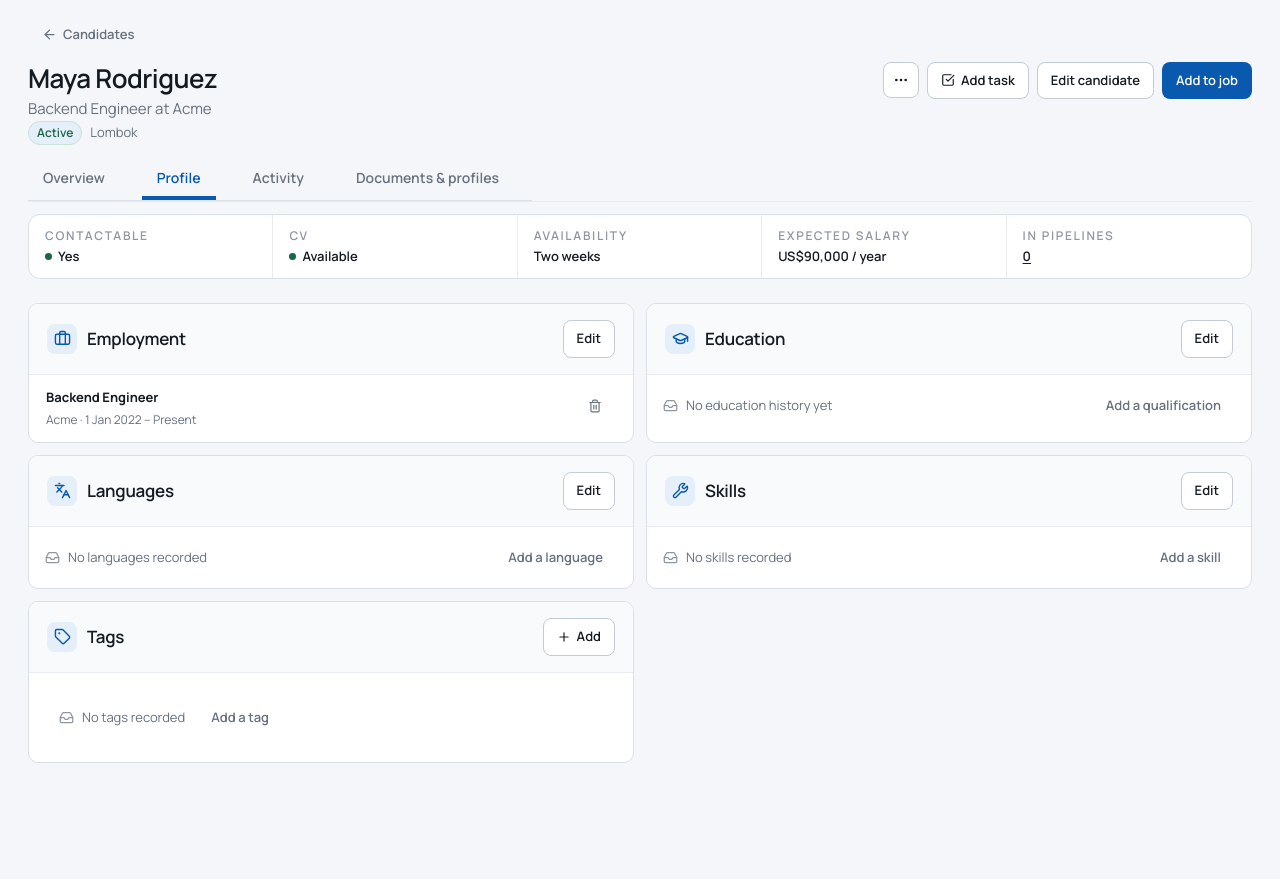
Test: CandidateDetailPage › offers the add action from an empty profile panel instead of a dead line
Expected: the text "No education history yet" is shown, [663,396,832,415]
Click the button "Add a qualification".
click(1163, 405)  # box [1092,387,1235,424]
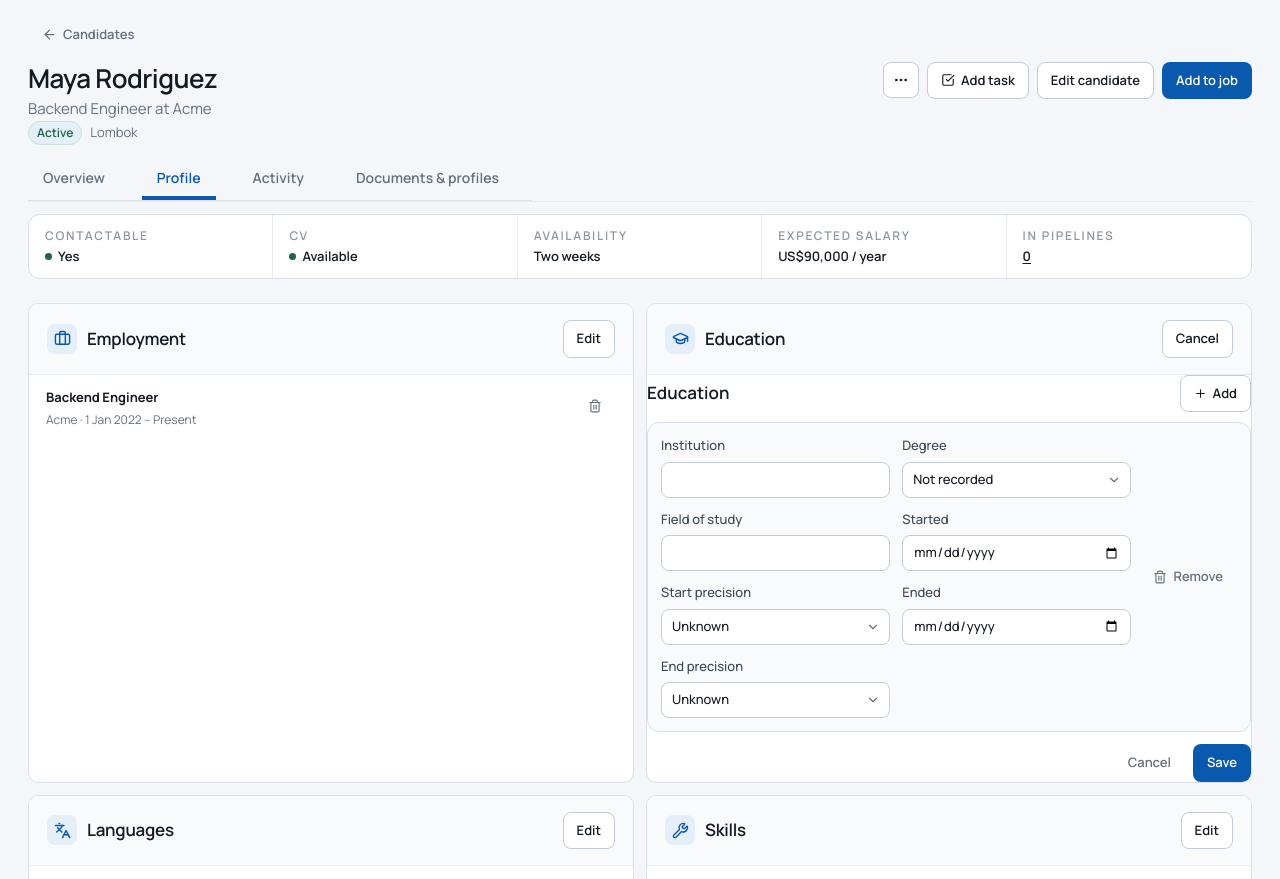
Result: the field labelled "Institution" is shown at [661,462,890,498]
